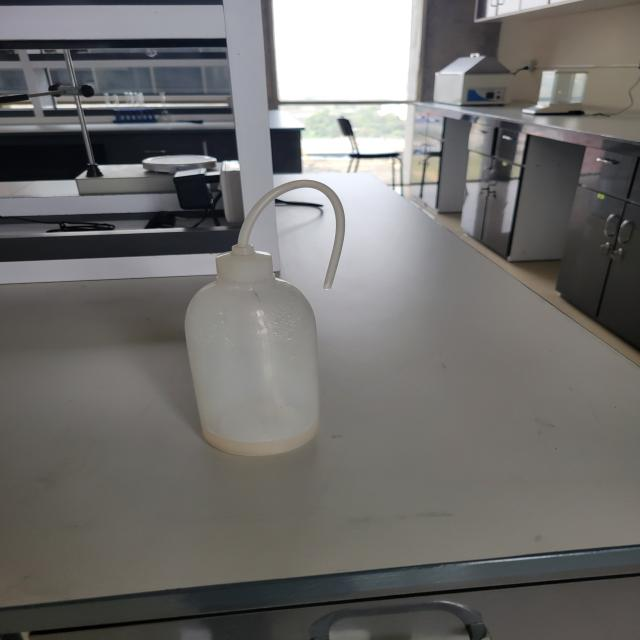Wash_Bottle: (142, 143, 408, 490)
